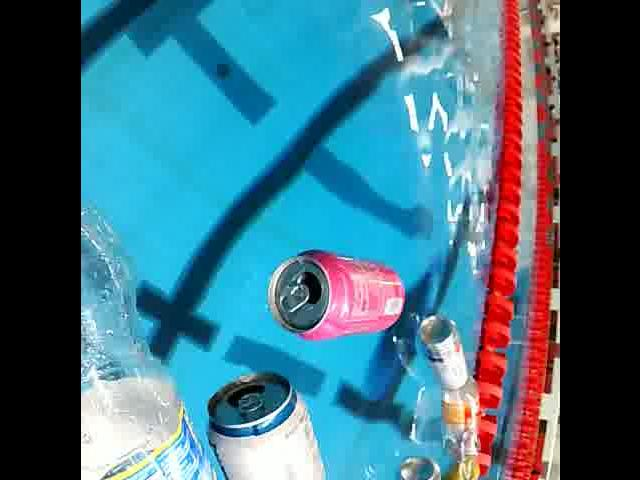Bottle: (80, 190, 226, 480), (442, 368, 484, 466)
Can: (200, 359, 343, 480), (260, 248, 406, 344), (412, 311, 470, 395), (435, 452, 485, 480), (394, 451, 442, 480)
